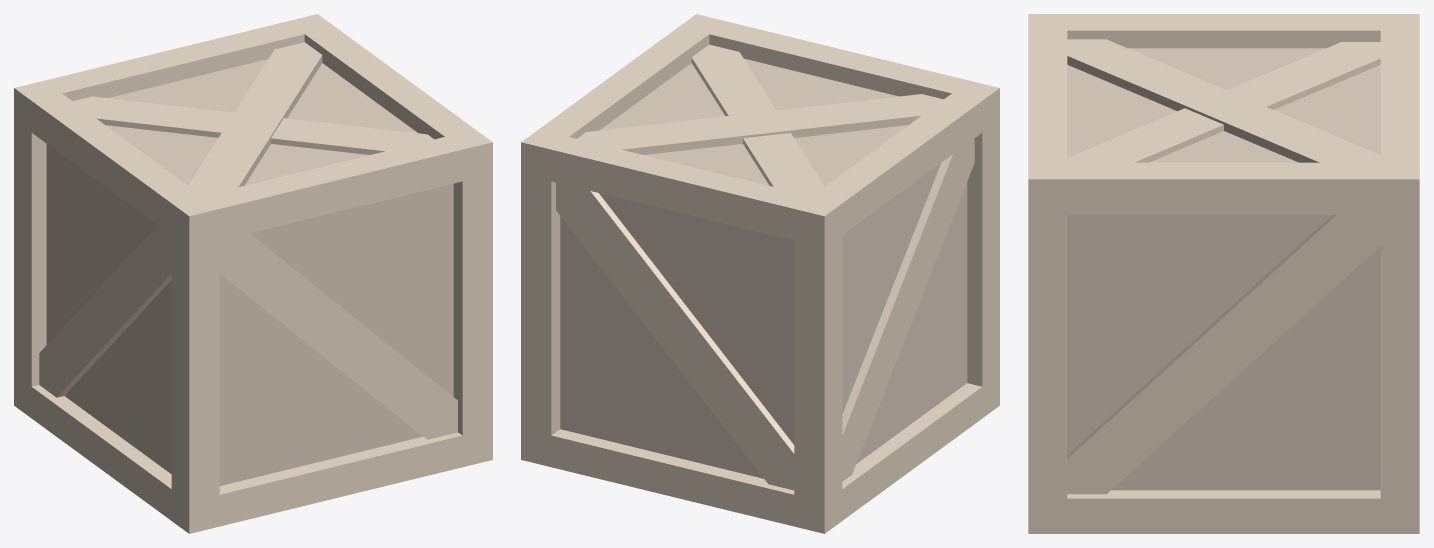
Rendered from scene_cube_no_walls.glb.
3 views of the same model, side by side, from view 1: azimuth 30°, elevation 25°; view 2: azimuth 150°, elevation 25°; view 3: azimuth 270°, elevation 25° (orthographic). The views are drawn at different scales.
Parts seen in each view (by area): view 1: object1; view 2: object1; view 3: object1.
Boxes of the visible parts, x1,y1,x2,y2 form: object1: (14, 14, 492, 533); object1: (521, 14, 999, 533); object1: (1028, 14, 1419, 533).
Size of what is drawn, in the model's own units: 2.37 by 2.37 by 2.37.
